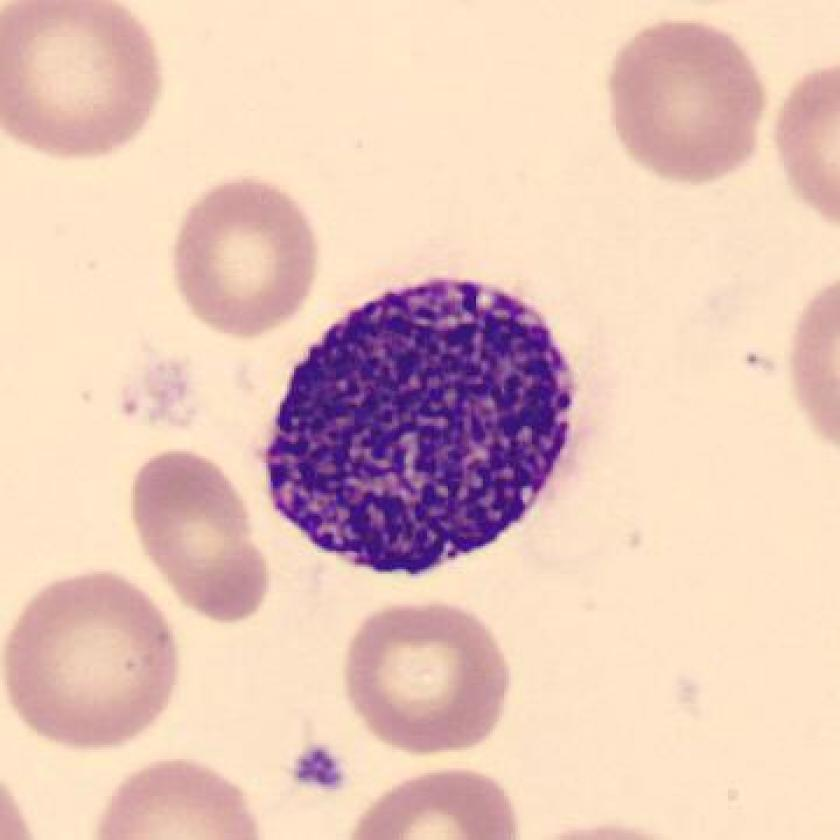basophil: (260, 265, 591, 603)
